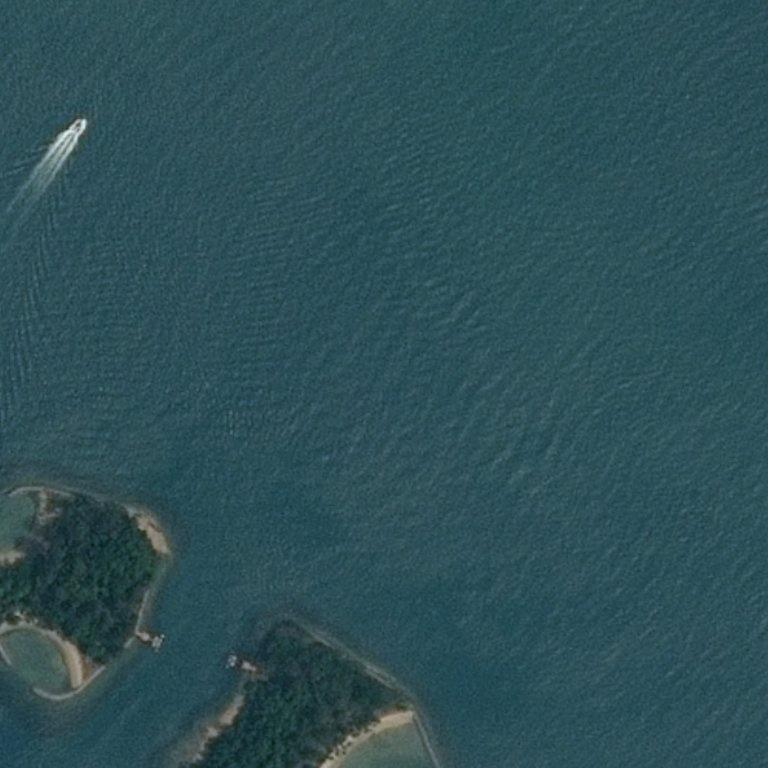ship: (71, 118, 86, 135)
